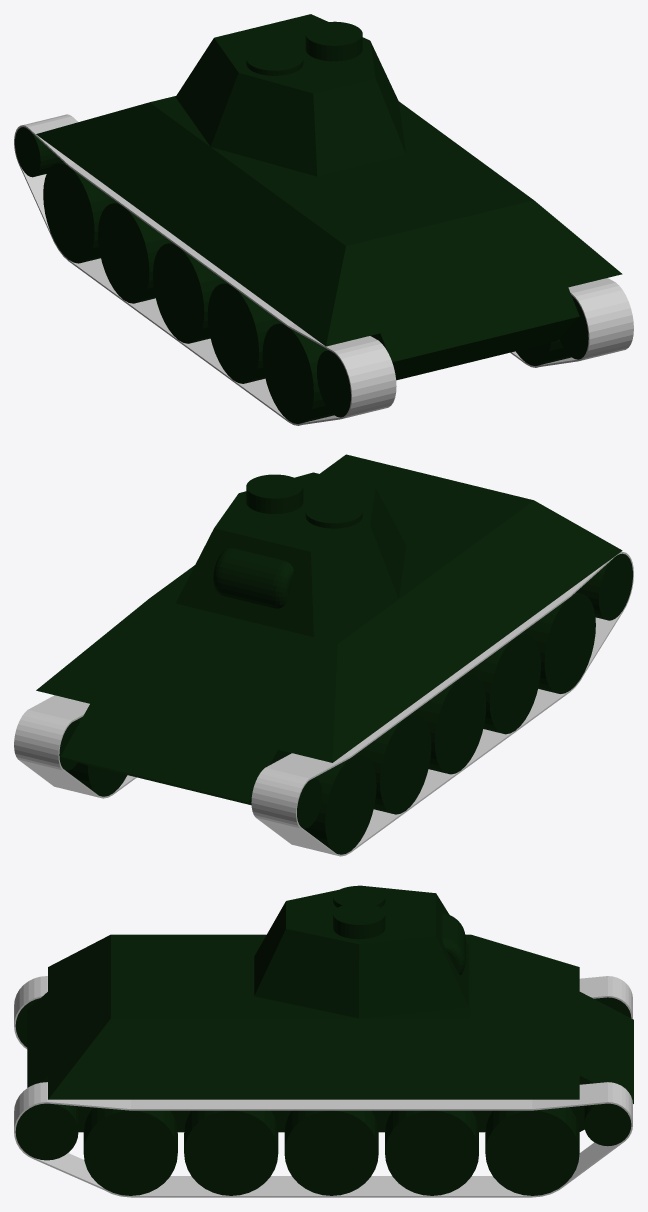
Rendered from tank_2.obj.
3 renders of one model, top to bottom at view 1: azimuth 30°, elevation 25°; view 2: azimuth 150°, elevation 25°; view 3: azimuth 270°, elevation 25°, orthographic. The views are drawn at different scales.
Visible parts, largest first — view 1: Corpus, Turret, Caterpillar.001, Weel.005, Weel.002, Weel, Weel.003, Weel.004, Caterpillar.003, RightCom, Weel.006, Weel.001 (+3 smaller); view 2: Corpus, Turret, Caterpillar.001, Weel.002, Weel, Weel.005, Weel.003, Weel.004, Caterpillar.003, Maska, Weel.006, RightCom (+3 smaller); view 3: Corpus, Turret, Caterpillar.003, Weel.011, Weel.008, Weel.010, Weel.009, Weel.013, Weel.007, Caterpillar.001, Weel.012, RightCom (+3 smaller).
Boxes of the visible parts, x1=… form: Corpus: x1=36, y1=96, x2=622, y2=380; Turret: x1=175, y1=14, x2=406, y2=176; Caterpillar.001: x1=14, y1=114, x2=396, y2=425; Weel.005: x1=262, y1=323, x2=333, y2=423; Weel.002: x1=43, y1=162, x2=116, y2=263; Weel: x1=98, y1=202, x2=171, y2=303; Weel.003: x1=153, y1=242, x2=226, y2=343; Weel.004: x1=207, y1=282, x2=281, y2=383; Caterpillar.003: x1=510, y1=278, x2=633, y2=367; RightCom: x1=305, y1=21, x2=362, y2=61; Weel.006: x1=317, y1=350, x2=350, y2=417; Weel.001: x1=15, y1=127, x2=63, y2=177; Corpus: x1=36, y1=454, x2=622, y2=805; Turret: x1=175, y1=472, x2=406, y2=636; Caterpillar.001: x1=251, y1=551, x2=633, y2=856; Weel.002: x1=303, y1=753, x2=376, y2=854; Weel: x1=357, y1=713, x2=431, y2=814; Weel.005: x1=522, y1=592, x2=595, y2=693; Weel.003: x1=412, y1=673, x2=486, y2=774; Weel.004: x1=467, y1=633, x2=540, y2=734; Caterpillar.003: x1=14, y1=695, x2=136, y2=798; Maska: x1=213, y1=548, x2=293, y2=608; Weel.006: x1=576, y1=553, x2=632, y2=620; RightCom: x1=246, y1=474, x2=303, y2=513; Corpus: x1=27, y1=934, x2=633, y2=1132; Turret: x1=254, y1=885, x2=468, y2=1018; Caterpillar.003: x1=14, y1=1082, x2=632, y2=1197; Weel.011: x1=485, y1=1107, x2=579, y2=1195; Weel.008: x1=83, y1=1107, x2=177, y2=1195; Weel.010: x1=284, y1=1110, x2=378, y2=1195; Weel.009: x1=184, y1=1110, x2=278, y2=1195; Weel.013: x1=385, y1=1110, x2=478, y2=1195; Weel.007: x1=15, y1=1103, x2=78, y2=1160; Caterpillar.001: x1=14, y1=976, x2=632, y2=1049; Weel.012: x1=584, y1=1103, x2=631, y2=1146; RightCom: x1=333, y1=903, x2=385, y2=939.
Bounding box in the file's own units: 3 × 2.47 × 5.93.
